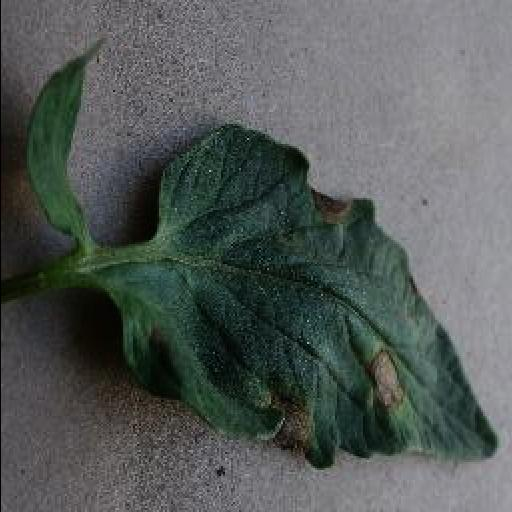Early Blight: (118, 126, 498, 470)
